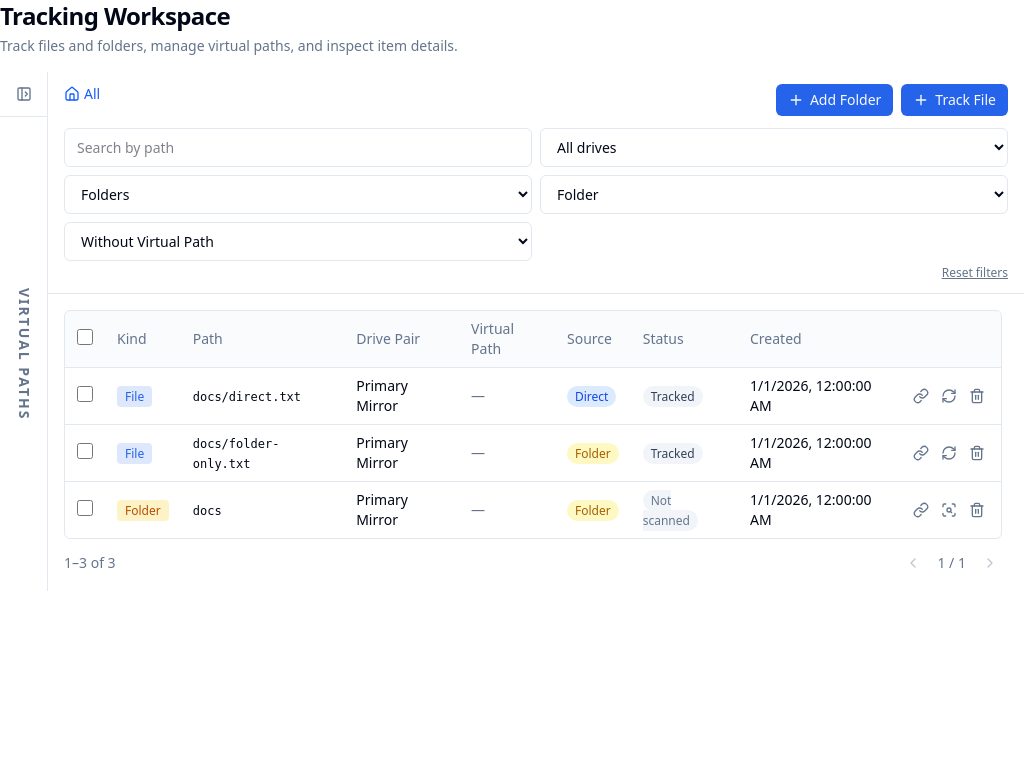
Test: TrackingWorkspacePage › deletes mixed selected items from the bulk action bar
The image size is (1024, 768).
Expected: the row with test id "file-row-12" is shown, [65,424,1001,482]
Click the checkbox with test id "select-row-file-12" at (85, 450), box [77,442,93,458]
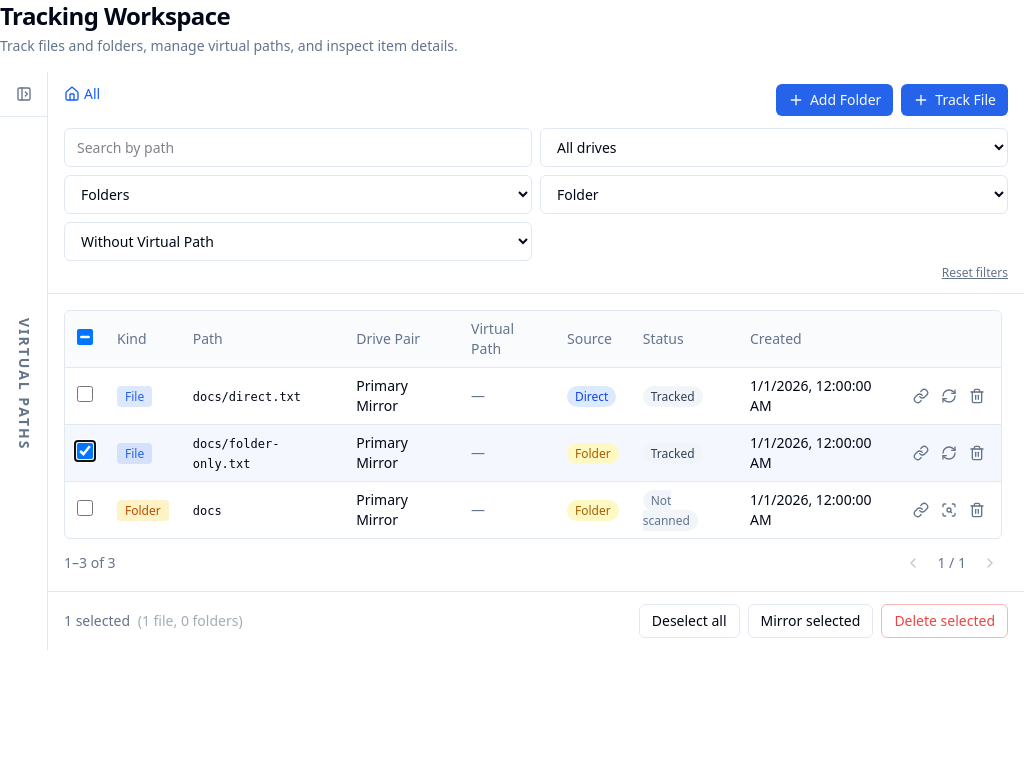
Click the checkbox with test id "select-row-folder-21" at (85, 508), box [77,500,93,516]
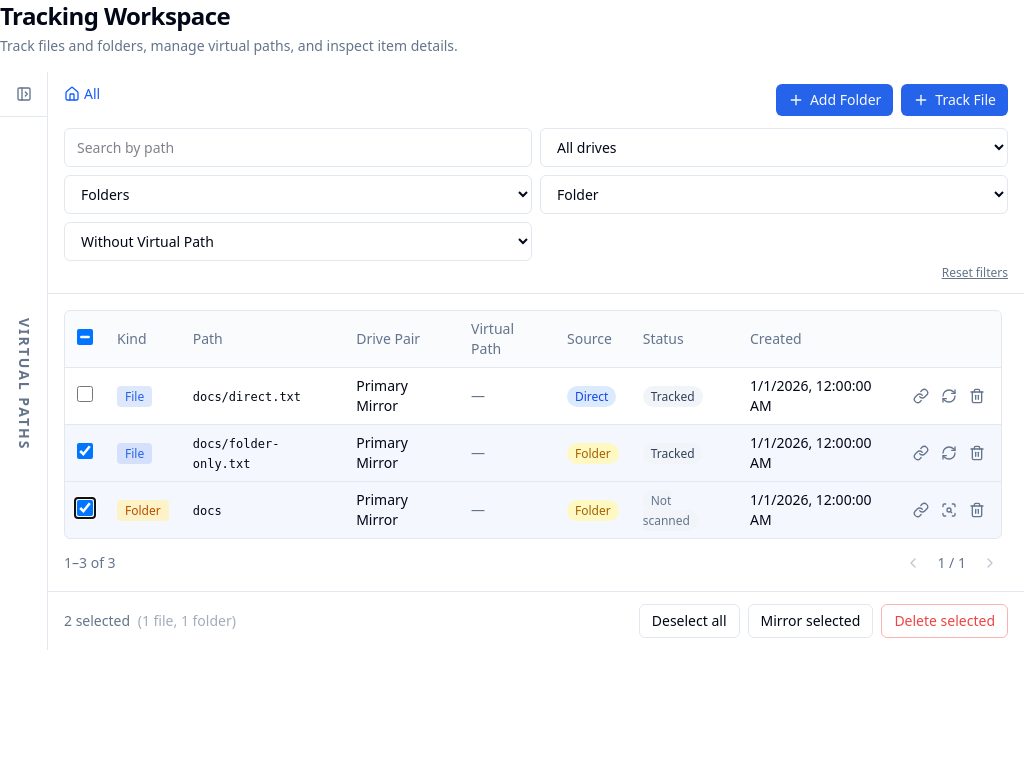
Click the button with test id "bulk-delete" at (945, 621), box [881,604,1008,638]
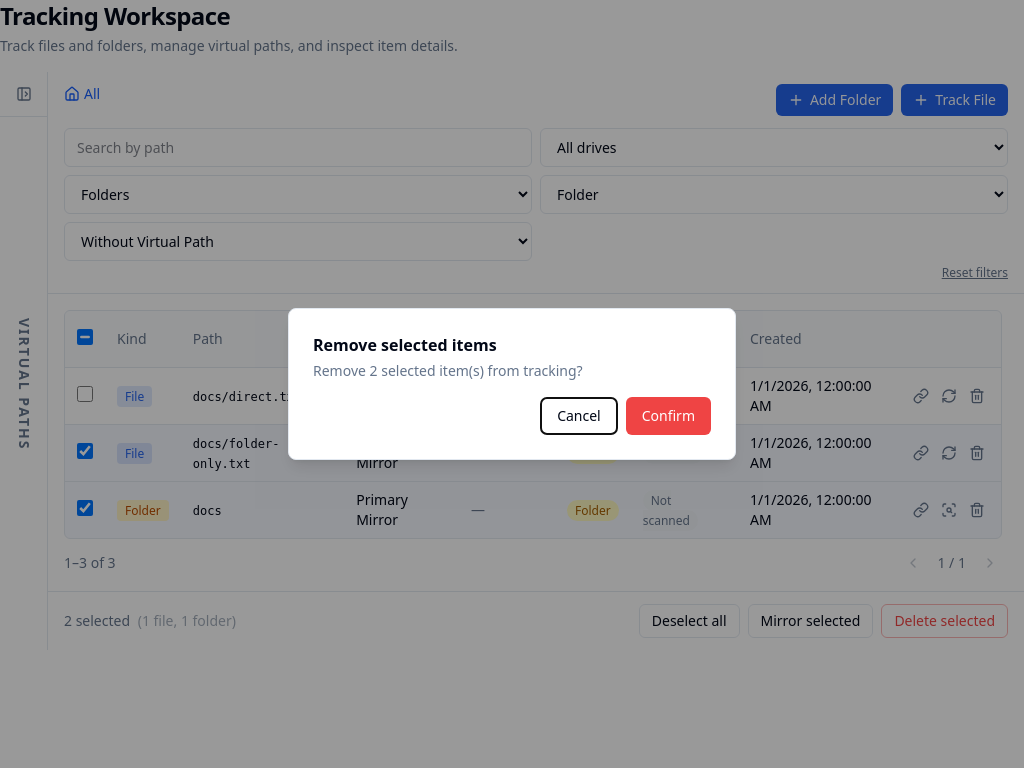
Click the button "Confirm" at (668, 416), box [626,397,711,435]
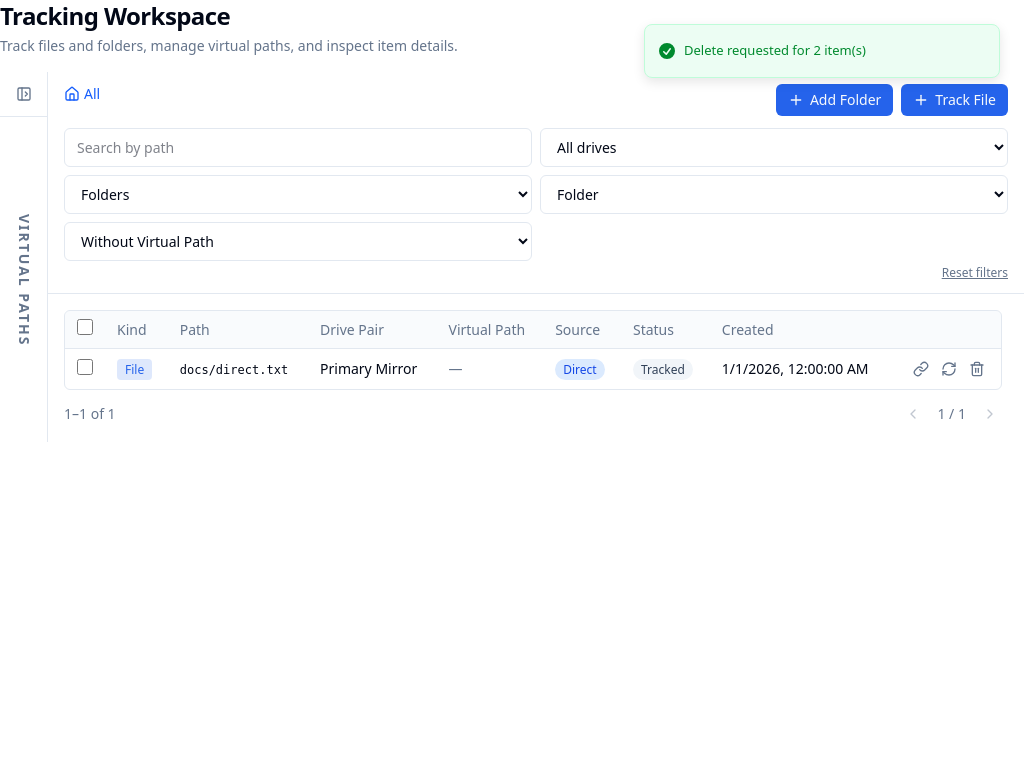
Expected: the row with test id "file-row-11" is shown, [65,348,1001,389]
Expected: the row with test id "file-row-12" is gone
Expected: the row with test id "folder-row-21" is gone
